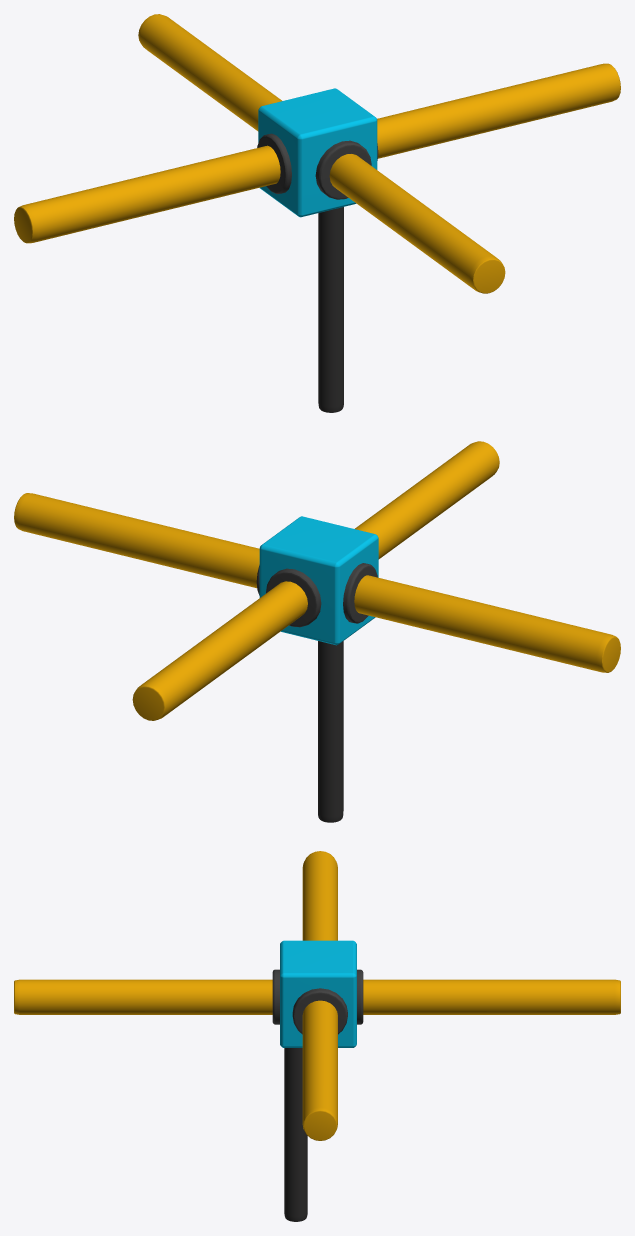
3 renders of one model, top to bottom at view 1: azimuth 30°, elevation 25°; view 2: azimuth 150°, elevation 25°; view 3: azimuth 270°, elevation 25°, orthographic. The views are drawn at different scales.
Parts seen in each view (by area): view 1: polySurface35, polySurface40; view 2: polySurface35, polySurface40; view 3: polySurface35, polySurface40.
Part boxes in pixels (box(x1,y1,x2,y2)): polySurface35: box(14, 14, 620, 293); polySurface40: box(318, 207, 343, 412); polySurface35: box(14, 441, 620, 720); polySurface40: box(318, 641, 343, 822); polySurface35: box(14, 851, 620, 1140); polySurface40: box(284, 1048, 307, 1221).
Bounding box in the file's own units: 10.8 × 5.04 × 10.65.
